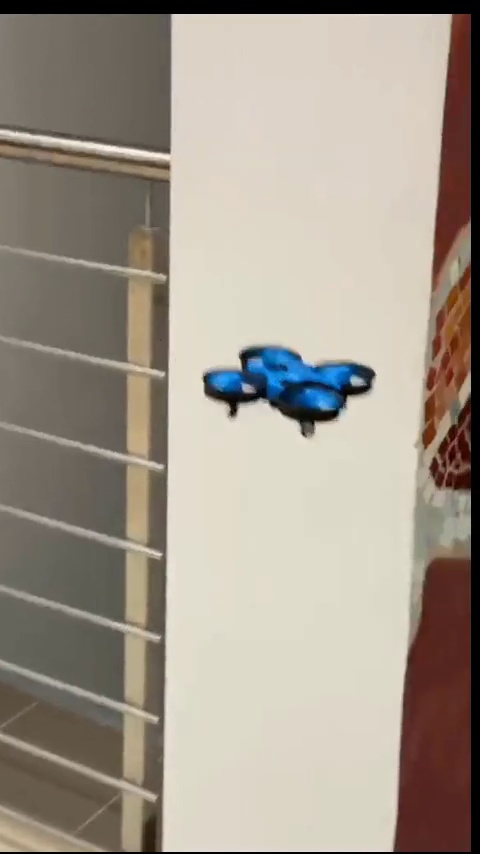drone: (213, 346, 375, 438)
